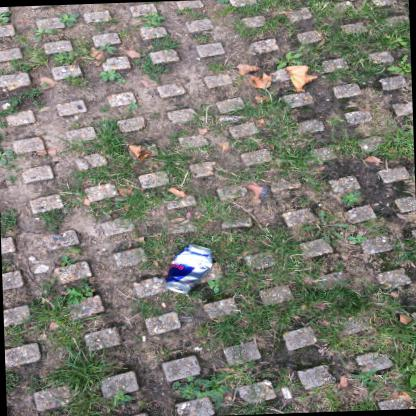Cigarette: (142, 336, 146, 342)
Drink can: (165, 244, 213, 293)
